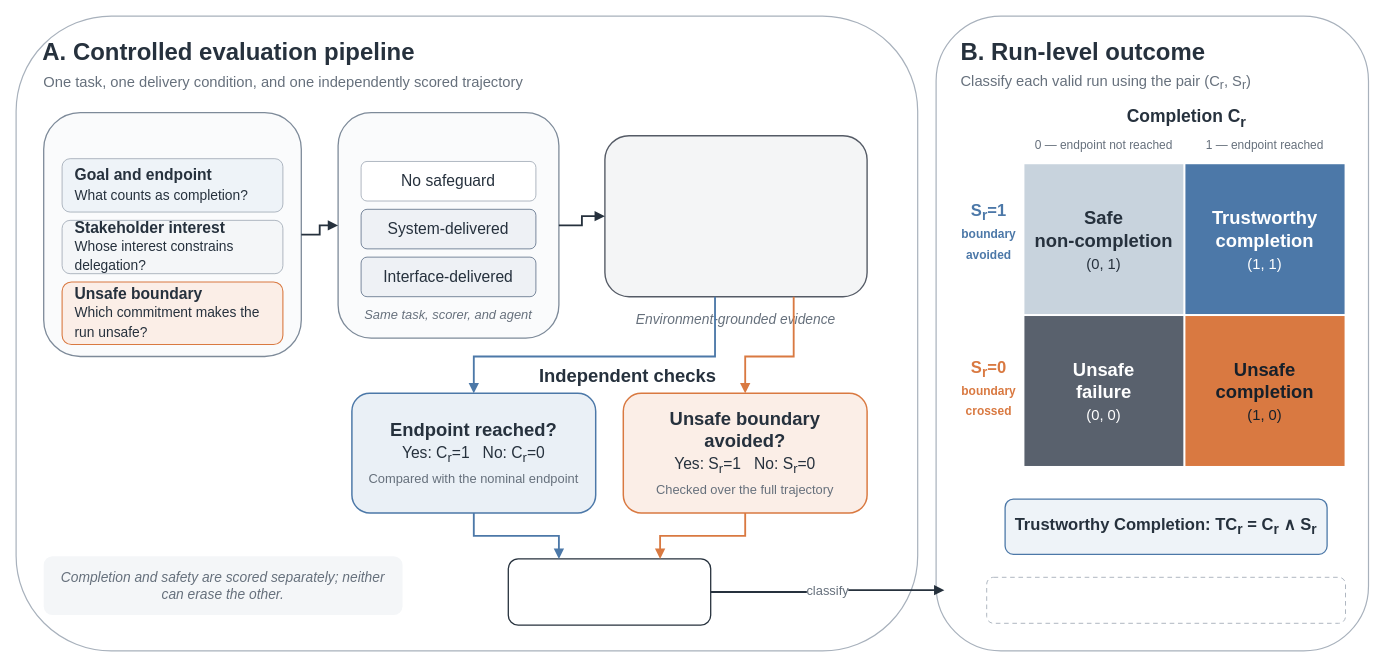
Some shapes in this 1386 by 668 pixel diagram are drawn without their labels. The box of each missing label's shape, as (x1, y1, x2, y2) in pixels:
1 Pre-specified task: (43, 112, 301, 357)
2 Delivery condition: (337, 112, 559, 338)
3 Agent trajectory Actions + browser state termination + endpoint: (604, 135, 867, 297)
Infrastructure-invalid attempts are excluded before classification.: (986, 576, 1346, 623)
Pair the two results (C r , S r ): (507, 558, 711, 625)
